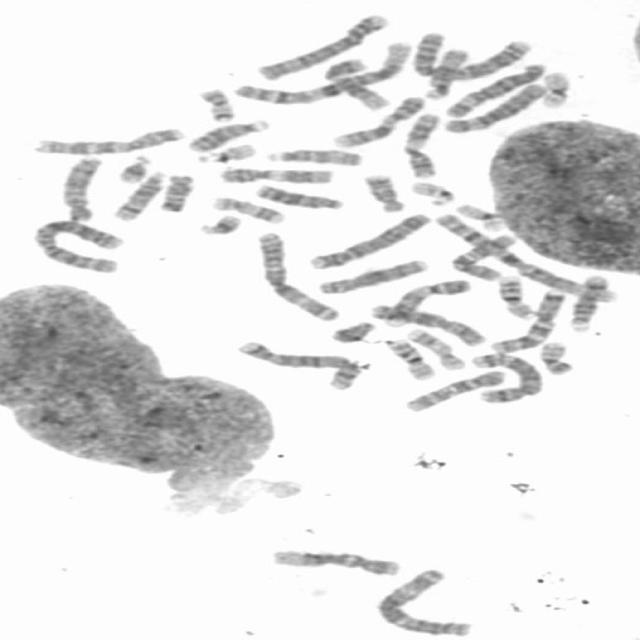A1: (434, 212, 618, 304), (233, 41, 415, 108)
A2: (410, 30, 534, 81), (30, 220, 126, 275)
A3: (252, 232, 343, 322), (373, 568, 476, 636)
B4: (253, 13, 389, 82), (307, 213, 433, 270)
B5: (232, 341, 360, 389), (470, 353, 544, 404)
C10: (401, 369, 506, 414), (448, 234, 516, 283)
C11: (401, 113, 441, 180), (219, 166, 335, 185)
C12: (268, 549, 403, 578), (321, 59, 392, 111)
C6: (443, 62, 548, 119), (441, 81, 548, 133)
C7: (489, 290, 567, 354), (31, 126, 188, 155)
C8: (317, 258, 428, 296), (61, 157, 107, 222)
C9: (331, 96, 426, 149), (382, 278, 474, 328)
D13: (186, 119, 271, 153), (255, 185, 345, 211)
D14: (111, 169, 167, 222), (567, 274, 613, 334)
D15: (422, 48, 471, 100), (264, 148, 366, 167)
E16: (383, 338, 437, 382), (496, 275, 536, 321)
E17: (407, 329, 467, 371), (212, 195, 286, 226)
E18: (359, 173, 408, 213), (159, 174, 195, 213)
F19: (455, 204, 506, 233), (539, 71, 571, 109)
F20: (538, 342, 576, 376), (199, 88, 237, 122)
G21: (116, 155, 151, 184), (198, 214, 242, 237)
G22: (410, 181, 458, 207), (195, 144, 257, 164)
X: (370, 304, 488, 348)
Y: (326, 321, 377, 346)
